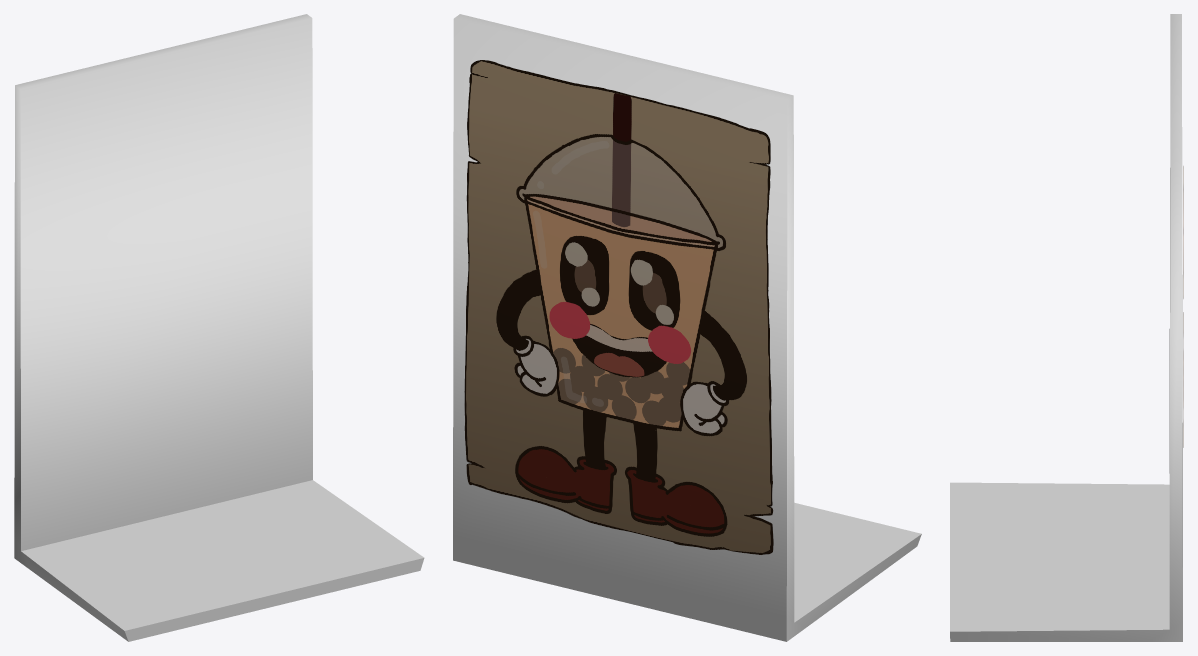
The model's file is Player_v2 (3).fbx.
The picture shows the model from 3 angles, left to right: view 1: azimuth 30°, elevation 25°; view 2: azimuth 150°, elevation 25°; view 3: azimuth 270°, elevation 25°; orthographic projection. The views are drawn at different scales.
Visible parts, largest first — view 1: Stand; view 2: Image, Stand; view 3: Stand.
Boxes of the visible parts, box(x1,y1,x2,y2) form: Stand: box(14, 14, 424, 641); Image: box(464, 60, 773, 554); Stand: box(453, 14, 921, 641); Stand: box(950, 14, 1182, 641).
Bounding box in the file's own units: 206 × 310 × 136.
